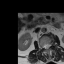CCS_normal: (45, 42, 47, 51)
LFS_normal: (49, 40, 51, 47)
LLS_normal: (47, 41, 50, 50)
RFS_normal: (41, 43, 43, 50)
RLS_normal: (43, 43, 45, 50)
